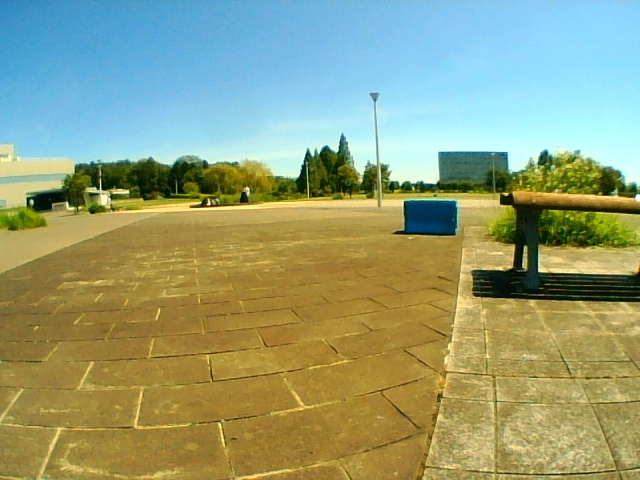blue_box: (406, 201, 457, 234)
